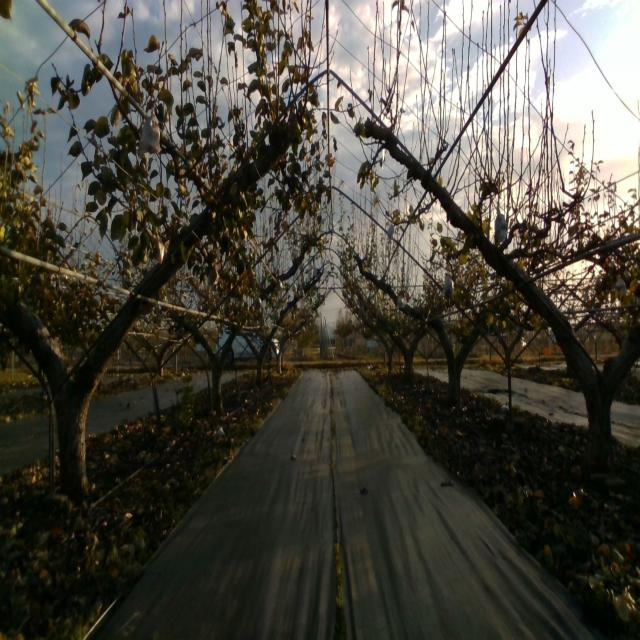pearbags: (138, 108, 162, 158), (494, 208, 508, 248), (152, 230, 166, 264), (442, 275, 452, 297)
